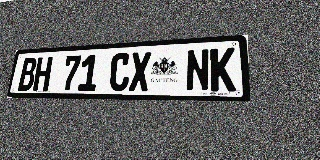1: (78, 54, 99, 91)
7: (60, 55, 82, 91)
B: (17, 58, 38, 91)
C: (109, 53, 131, 91)
H: (32, 57, 53, 91)
K: (210, 47, 236, 91)
N: (186, 49, 209, 91)
X: (129, 52, 151, 91)
